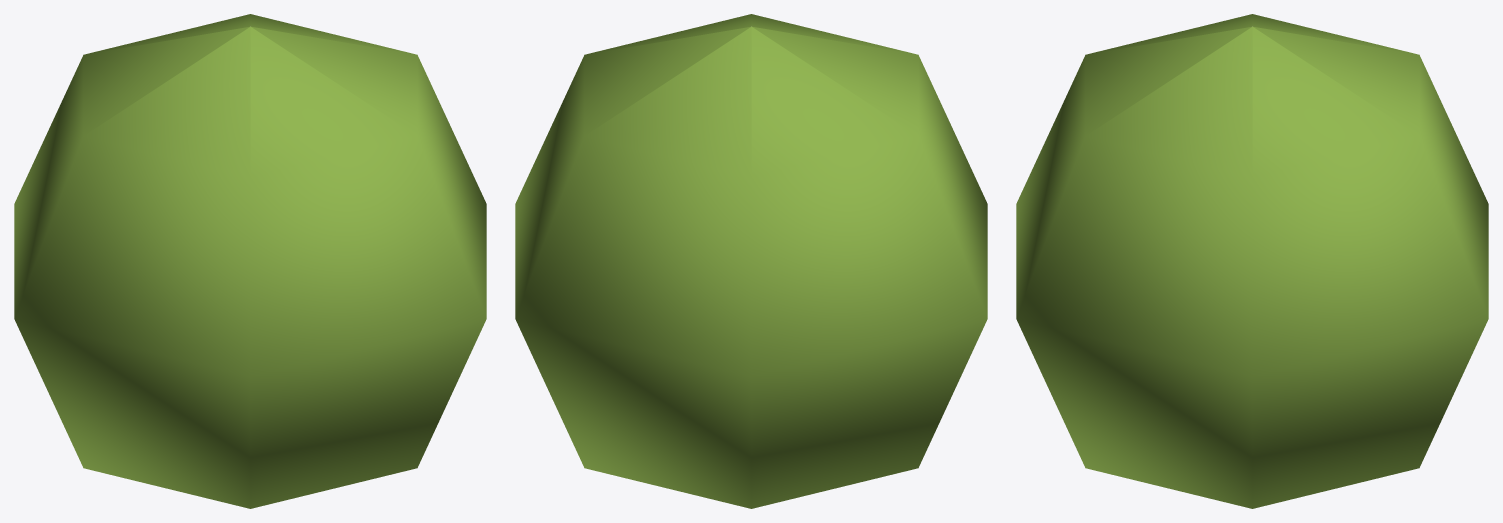
The model's file is fruit-coconut-unripe-far.glb.
3 views of the same model, side by side, from view 1: azimuth 30°, elevation 25°; view 2: azimuth 150°, elevation 25°; view 3: azimuth 270°, elevation 25° (orthographic).
Parts seen in each view (by area): view 1: fruit-coconut-unripe-far; view 2: fruit-coconut-unripe-far; view 3: fruit-coconut-unripe-far.
Boxes of the visible parts, x1,y1,x2,y2 form: fruit-coconut-unripe-far: (14,14,486,508); fruit-coconut-unripe-far: (515,14,987,508); fruit-coconut-unripe-far: (1016,14,1488,508).
Bounding box in the file's own units: 0.56 × 0.532 × 0.485.
